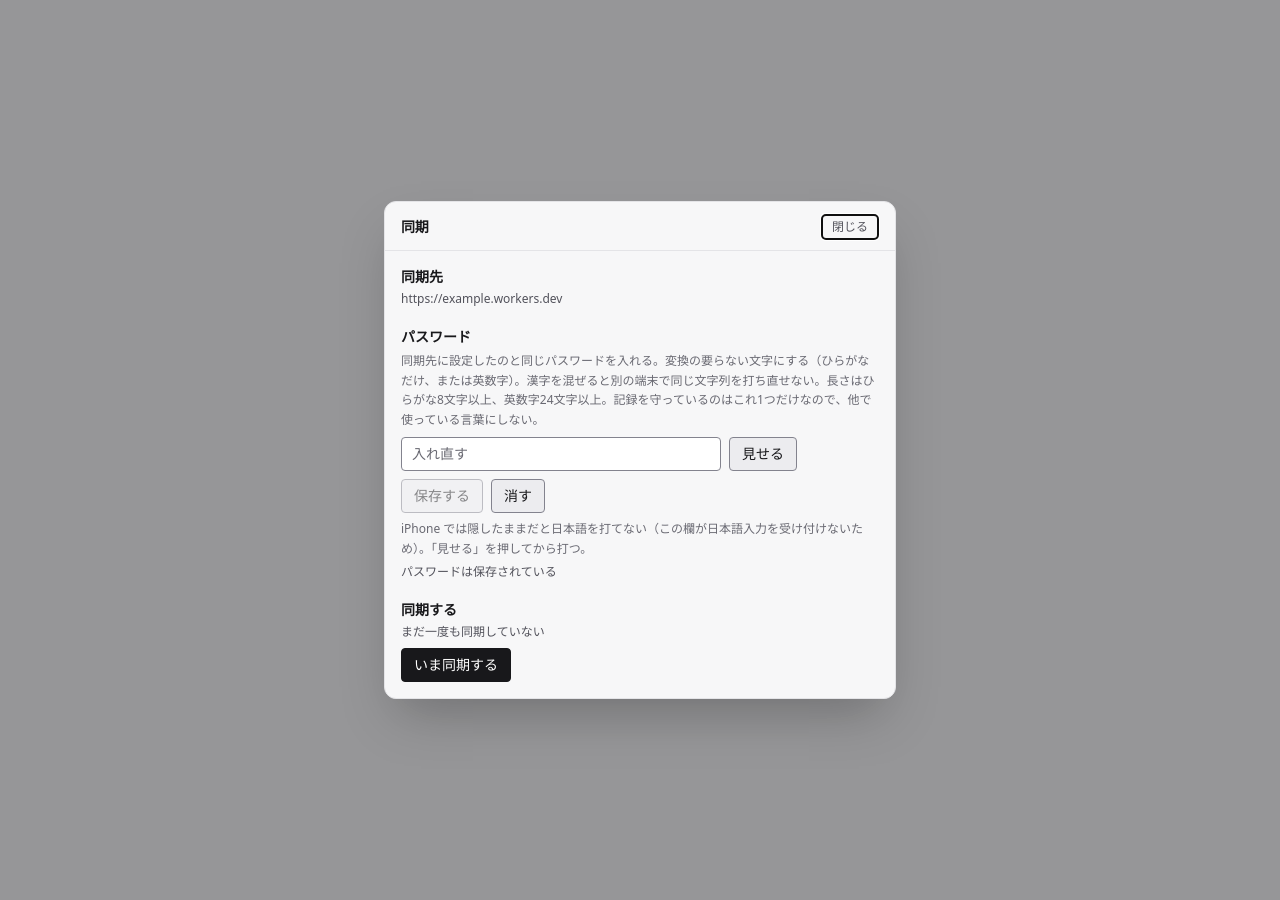
Test: 同期の結果 › 競合を、どちらを採ったかと一緒に出す
Click the button "いま同期する" at [456, 665], box x1=401 y1=648 x2=511 y2=682
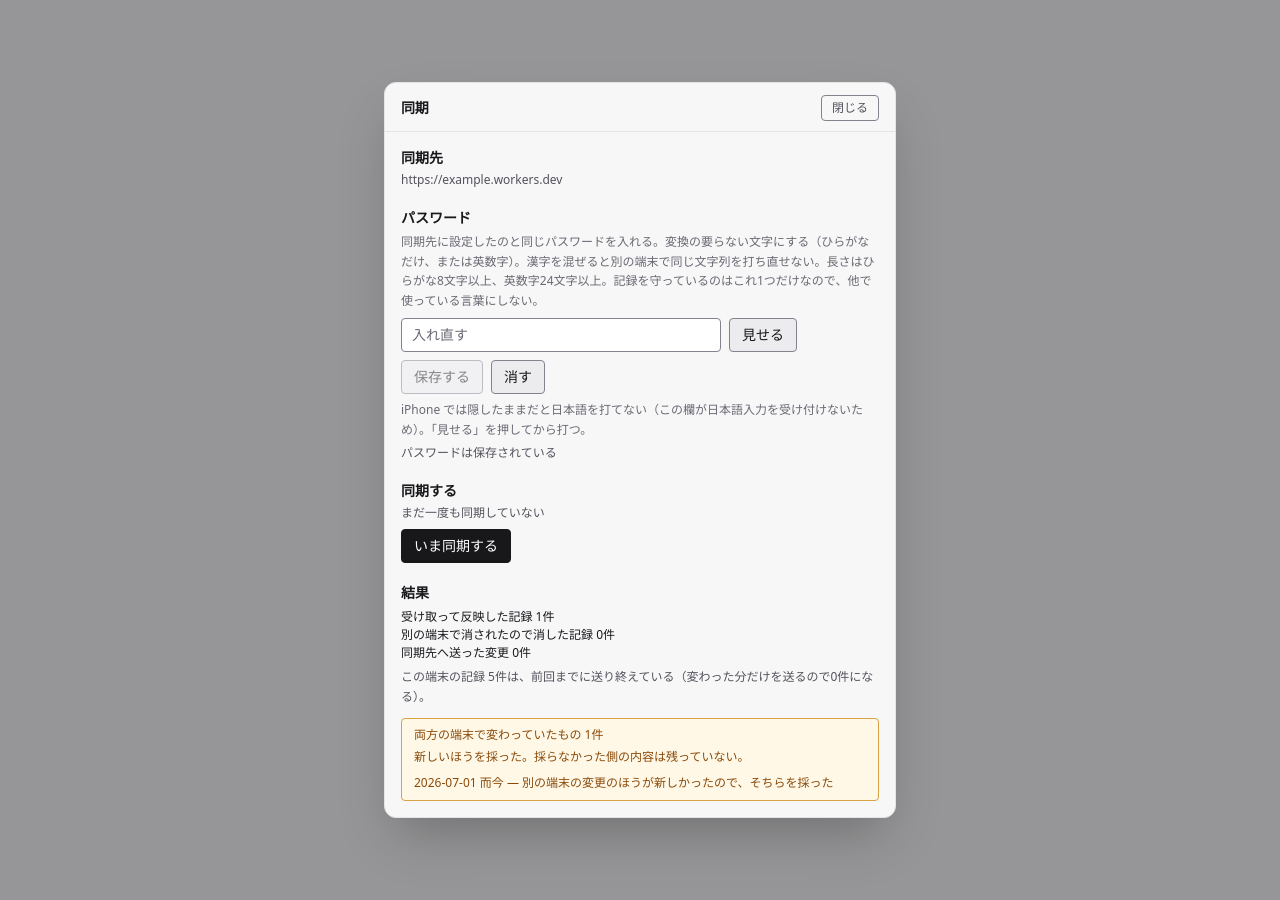
Result: the text "両方の端末で変わっていたもの 1件" is shown at x1=414 y1=726 x2=603 y2=743
Result: the text "2026-07-01 而今" is shown at x1=414 y1=774 x2=504 y2=790
Result: the list item "2026-07-01 而今 — 別の端末の変更のほうが新しかったので、そちらを採った" is shown at x1=414 y1=772 x2=866 y2=792
